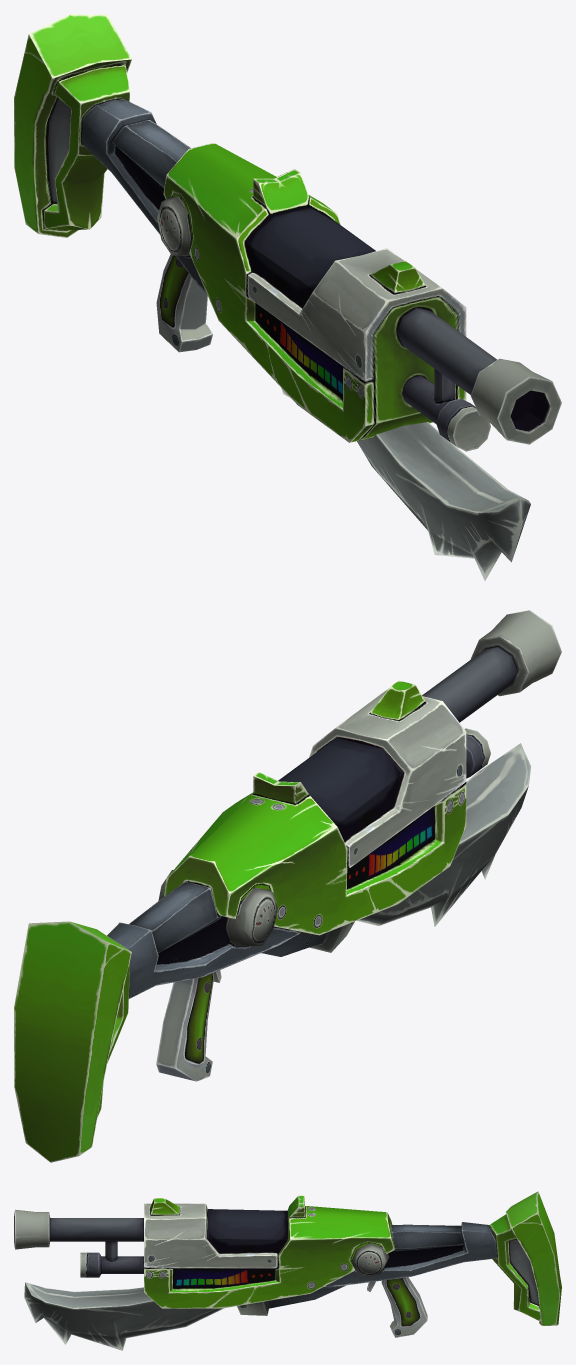
File: gun_5.fbx
The picture shows the model from 3 angles, top to bottom: view 1: azimuth 30°, elevation 25°; view 2: azimuth 150°, elevation 25°; view 3: azimuth 270°, elevation 25°; orthographic projection. The views are drawn at different scales.
Parts seen in each view (by area): view 1: gun_5; view 2: gun_5; view 3: gun_5.
Boxes of the visible parts, <box> form: gun_5: <box>14,14,561,580</box>; gun_5: <box>14,610,561,1162</box>; gun_5: <box>14,1191,561,1350</box>.
Size of the model in its own units: 4.94 by 12.6 by 40.4.
Materials: 1 (1 with a texture image).
